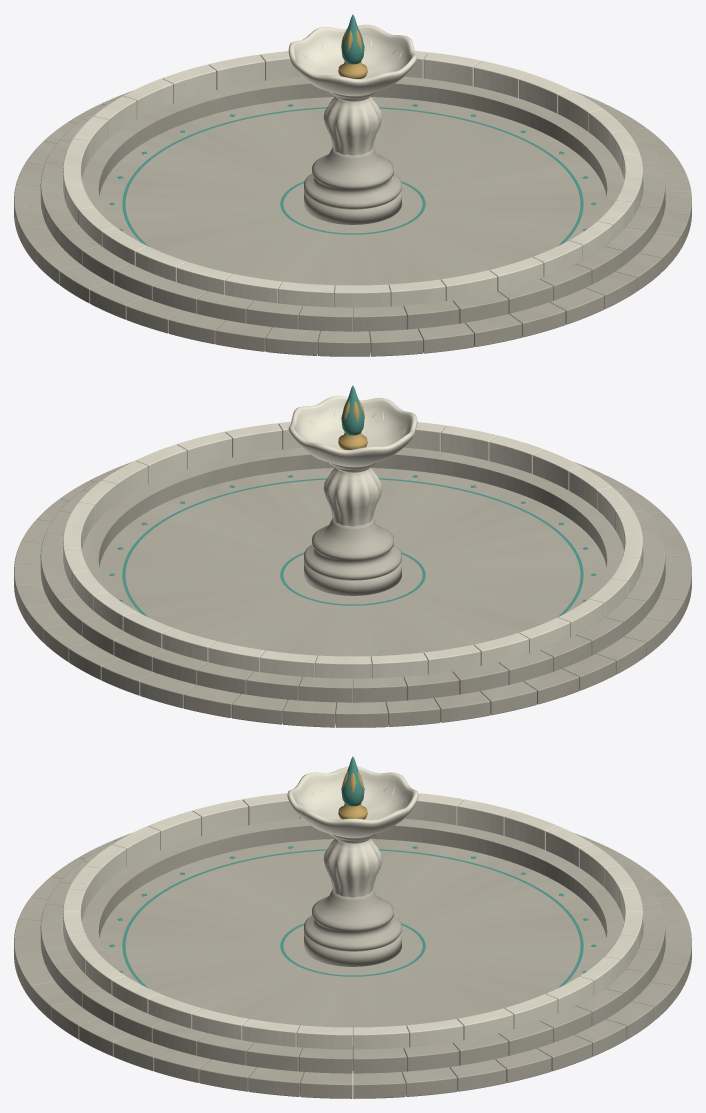
The model's file is fountain.glb.
The picture shows the model from 3 angles, top to bottom: view 1: azimuth 30°, elevation 25°; view 2: azimuth 150°, elevation 25°; view 3: azimuth 270°, elevation 25°; orthographic projection.
Visible parts, largest first — view 1: Warm carved limestone, Ivory relief, Glazed celadon, Aged champagne brass; view 2: Warm carved limestone, Ivory relief, Glazed celadon, Aged champagne brass; view 3: Warm carved limestone, Ivory relief, Glazed celadon, Aged champagne brass.
Part boxes in pixels (x1,y1,x2,y2): Warm carved limestone: (14, 76, 691, 356); Ivory relief: (63, 24, 642, 331); Glazed celadon: (109, 14, 596, 246); Aged champagne brass: (338, 28, 367, 78); Warm carved limestone: (14, 447, 691, 727); Ivory relief: (63, 395, 642, 702); Glazed celadon: (109, 385, 596, 617); Aged champagne brass: (338, 399, 367, 449); Warm carved limestone: (14, 818, 691, 1098); Ivory relief: (63, 766, 642, 1049); Glazed celadon: (109, 756, 596, 988); Aged champagne brass: (338, 771, 367, 819).
Bounding box in the file's own units: 7.6 × 2.47 × 7.6.
